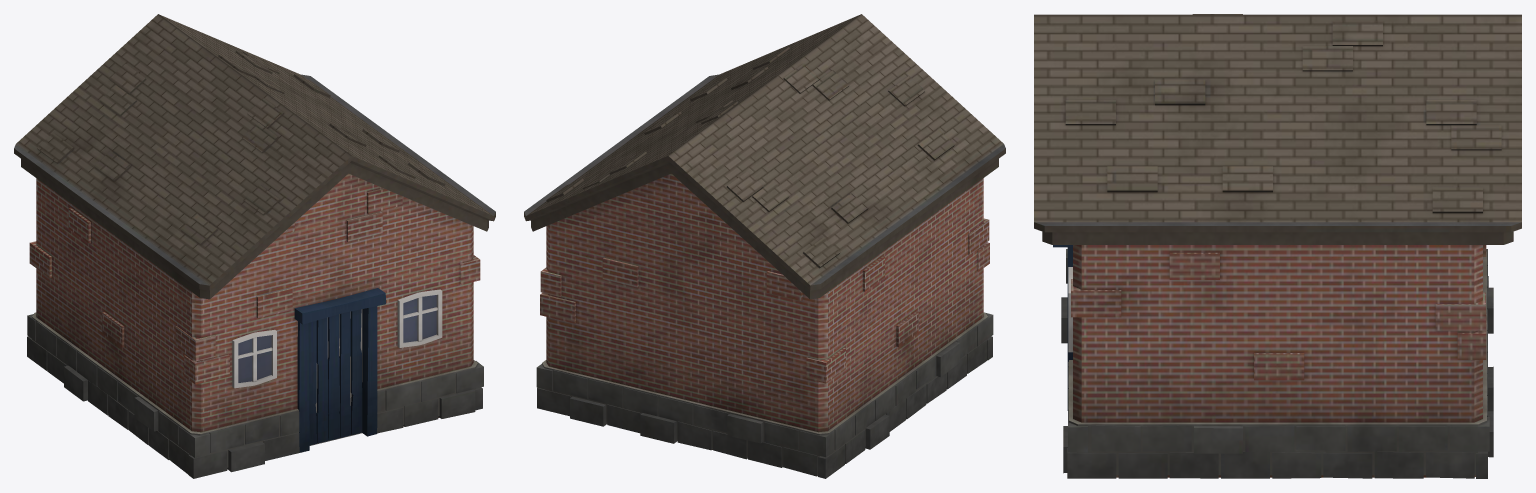
Rendered from 1Story_GableRoof.glb.
3 renders of one model, left to right at view 1: azimuth 30°, elevation 25°; view 2: azimuth 150°, elevation 25°; view 3: azimuth 270°, elevation 25°, orthographic. The views are drawn at different scales.
Visible parts, largest first — view 1: 1Story_GableRoof_medium; view 2: 1Story_GableRoof_medium; view 3: 1Story_GableRoof_medium.
Part boxes in pixels (x1=…): 1Story_GableRoof_medium: x1=14, y1=14, x2=495, y2=478; 1Story_GableRoof_medium: x1=524, y1=14, x2=1005, y2=478; 1Story_GableRoof_medium: x1=1034, y1=14, x2=1521, y2=478.
Size of the model in its own units: 2.11 by 2.02 by 2.38.
Materials: 2 (2 with a texture image).
